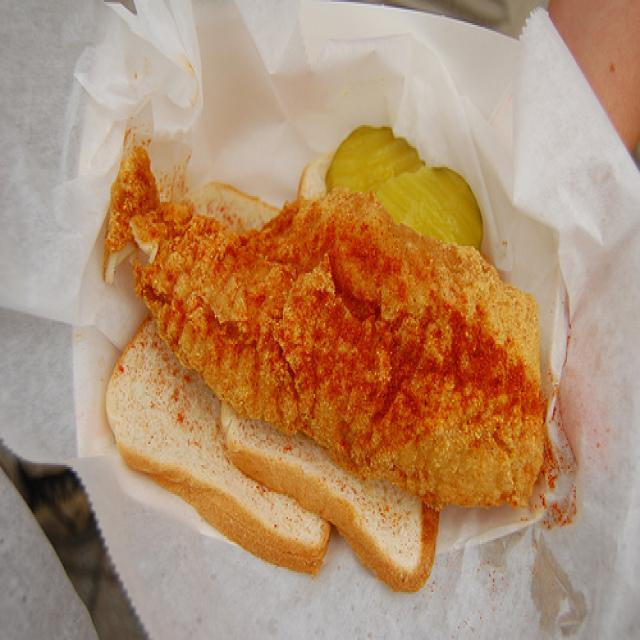炸货点心: (83, 115, 570, 558)
熟制海鲜: (83, 115, 570, 558)
